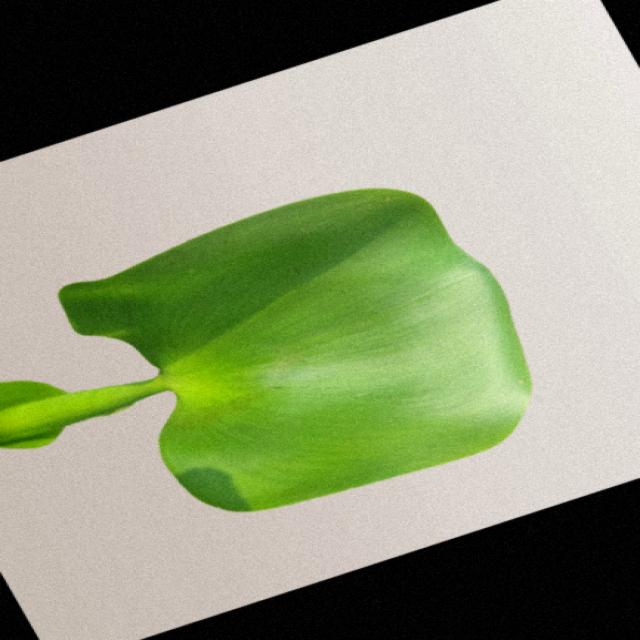daun sehat: (2, 189, 532, 511)
